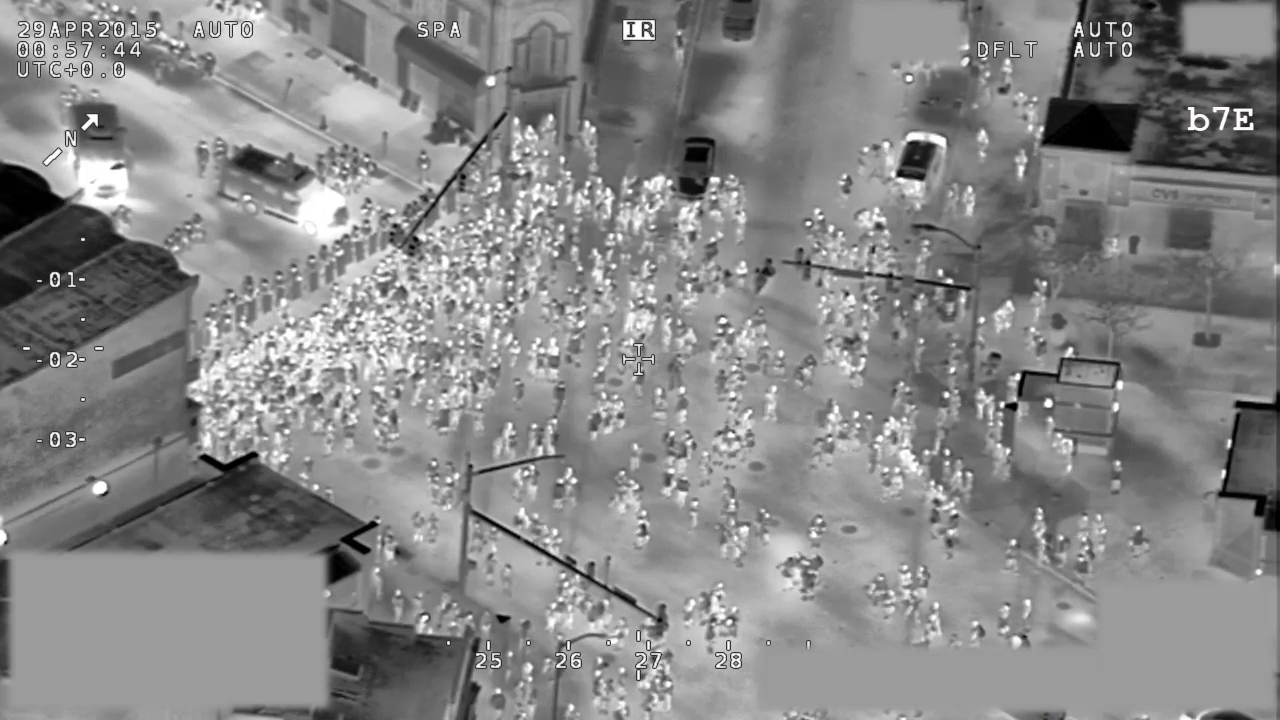vehicle: (213, 142, 359, 237), (68, 101, 133, 207), (890, 128, 952, 203), (674, 135, 718, 205)
